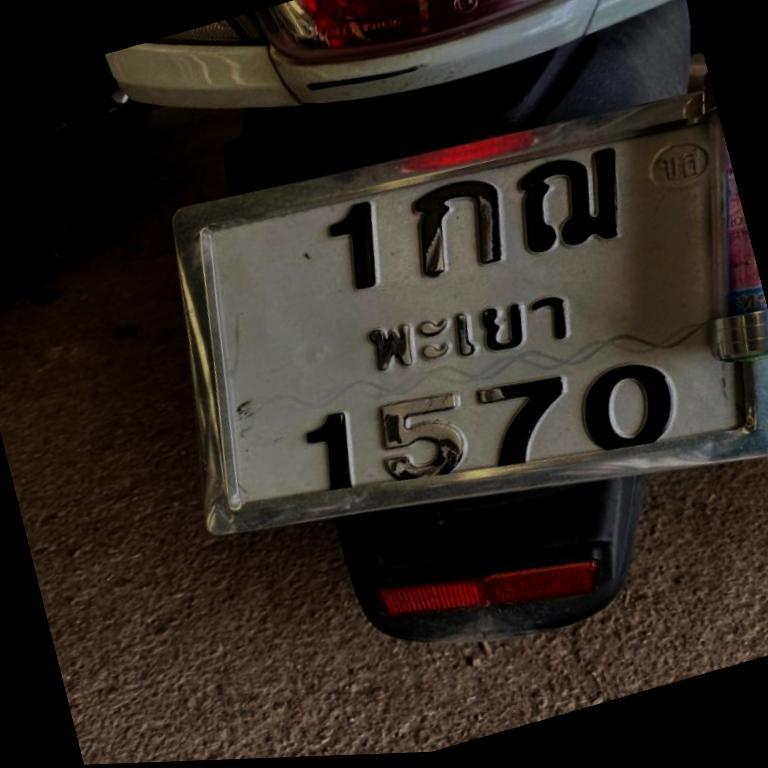license plate: (175, 96, 768, 532)
